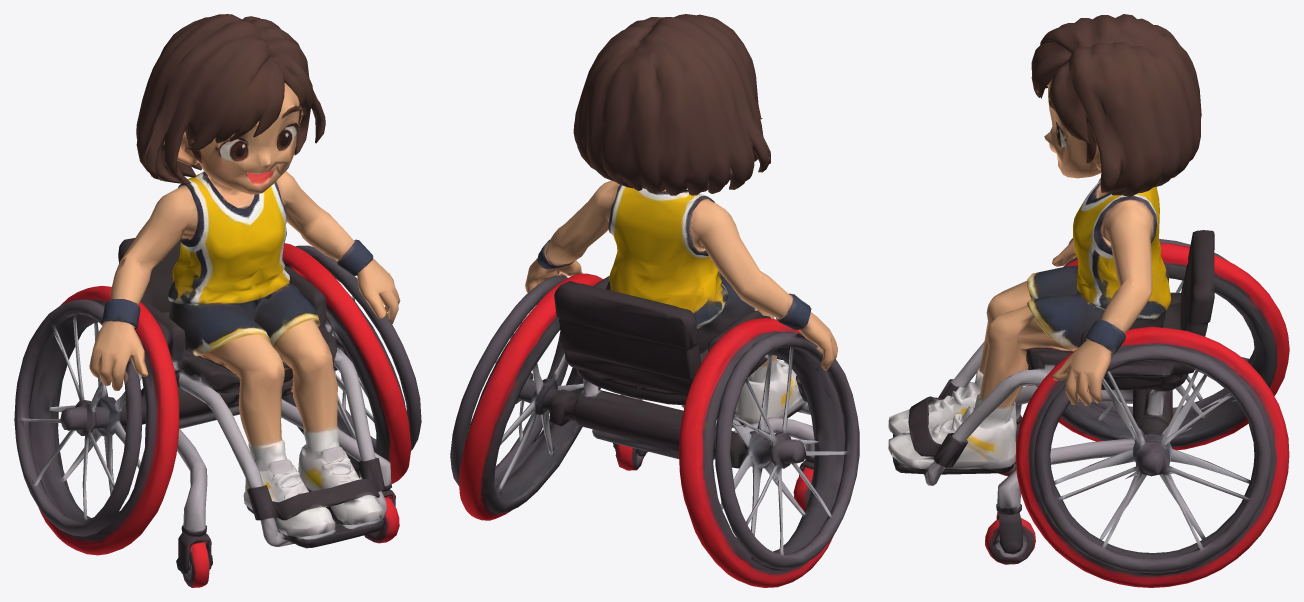
File: girl_wheelchair.glb
3 views of the same model, side by side, from view 1: azimuth 30°, elevation 25°; view 2: azimuth 150°, elevation 25°; view 3: azimuth 270°, elevation 25° (orthographic).
Parts seen in each view (by area): view 1: tripo_node_48108027-711f-4a97-b2fe-9ca201c5a844; view 2: tripo_node_48108027-711f-4a97-b2fe-9ca201c5a844; view 3: tripo_node_48108027-711f-4a97-b2fe-9ca201c5a844.
Part boxes in pixels (x1=…): tripo_node_48108027-711f-4a97-b2fe-9ca201c5a844: x1=14, y1=14, x2=421, y2=587; tripo_node_48108027-711f-4a97-b2fe-9ca201c5a844: x1=450, y1=14, x2=859, y2=587; tripo_node_48108027-711f-4a97-b2fe-9ca201c5a844: x1=888, y1=14, x2=1289, y2=587.
Size of the model in its own units: 0.6709 by 1 by 0.7287.
Materials: 1 (1 with a texture image).
